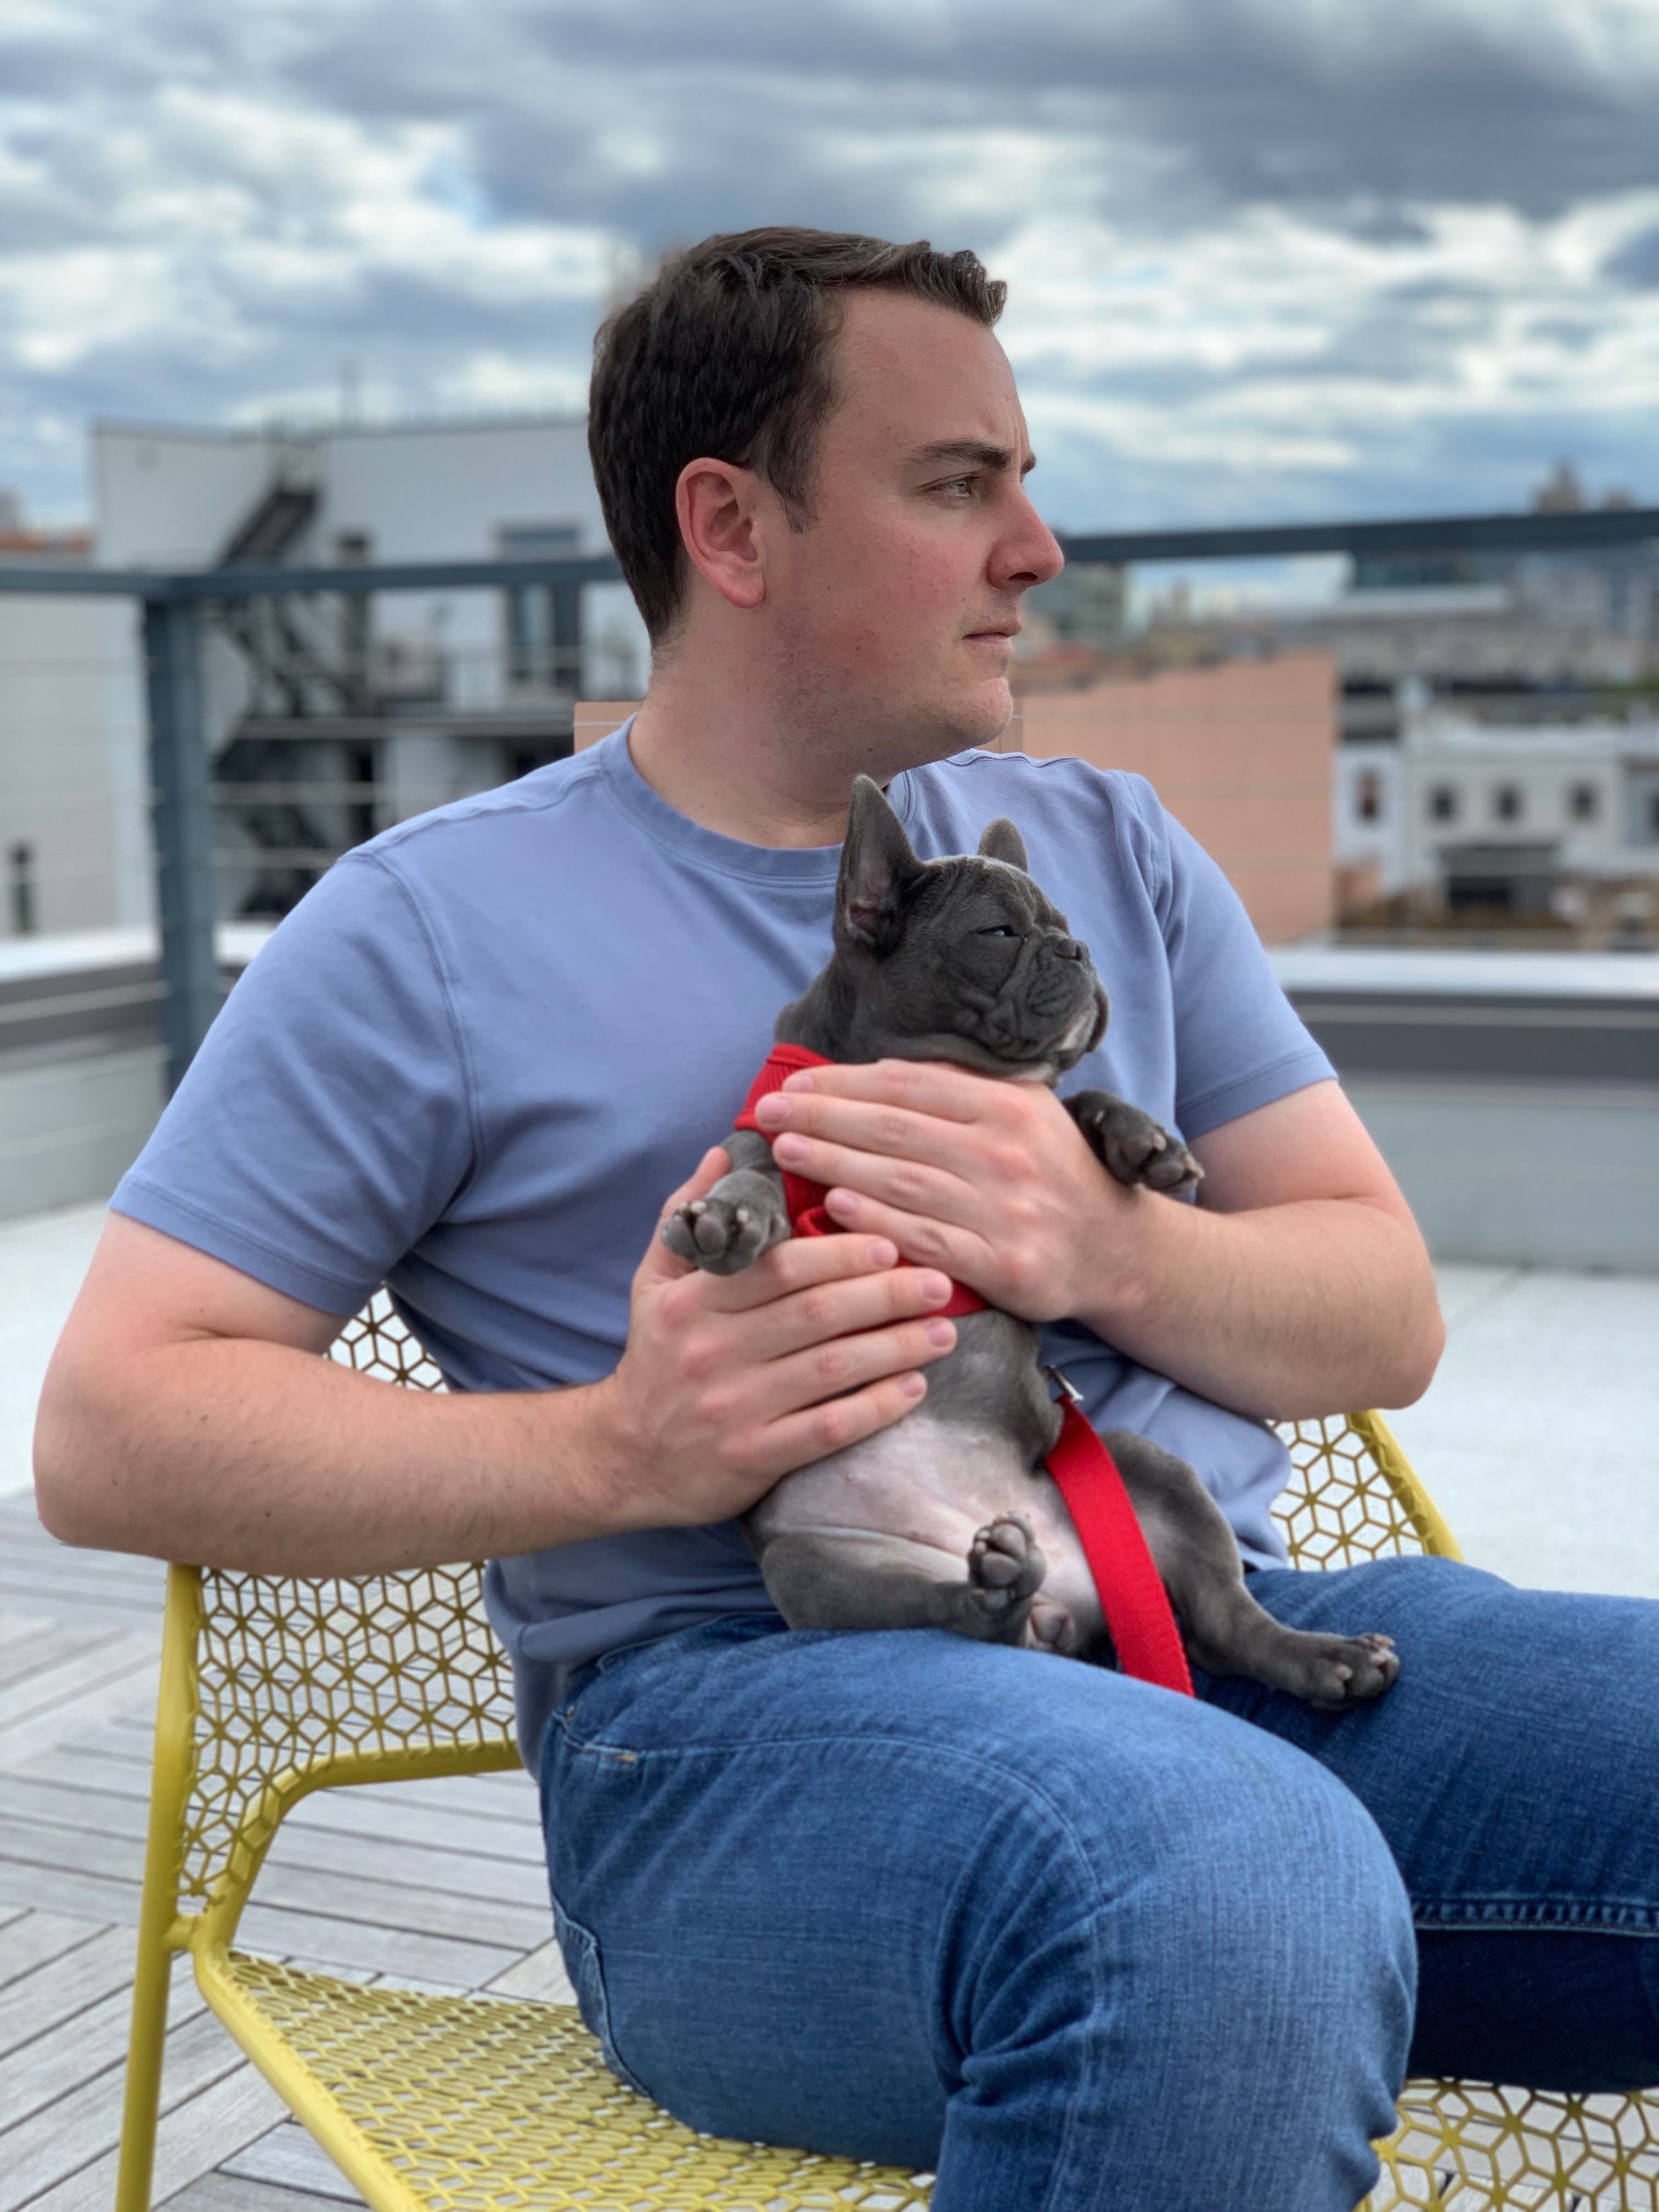lucy: (647, 770, 1410, 1721)
